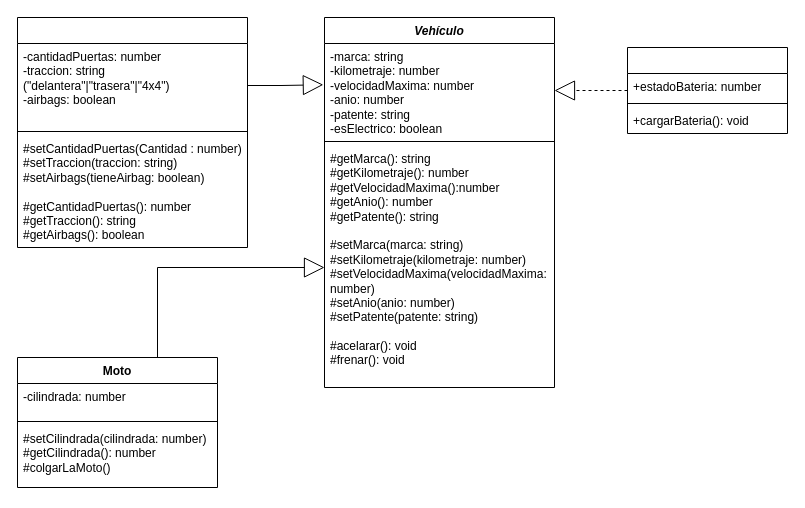
Some shapes in this 805 by 508 pixel diagram are drawn without their labels. Here are the shapes that lost their labels. From the top down, the box of each, then its label:
(626, 46, 788, 134): <<interface>> Electrico
(16, 16, 248, 248): Auto
